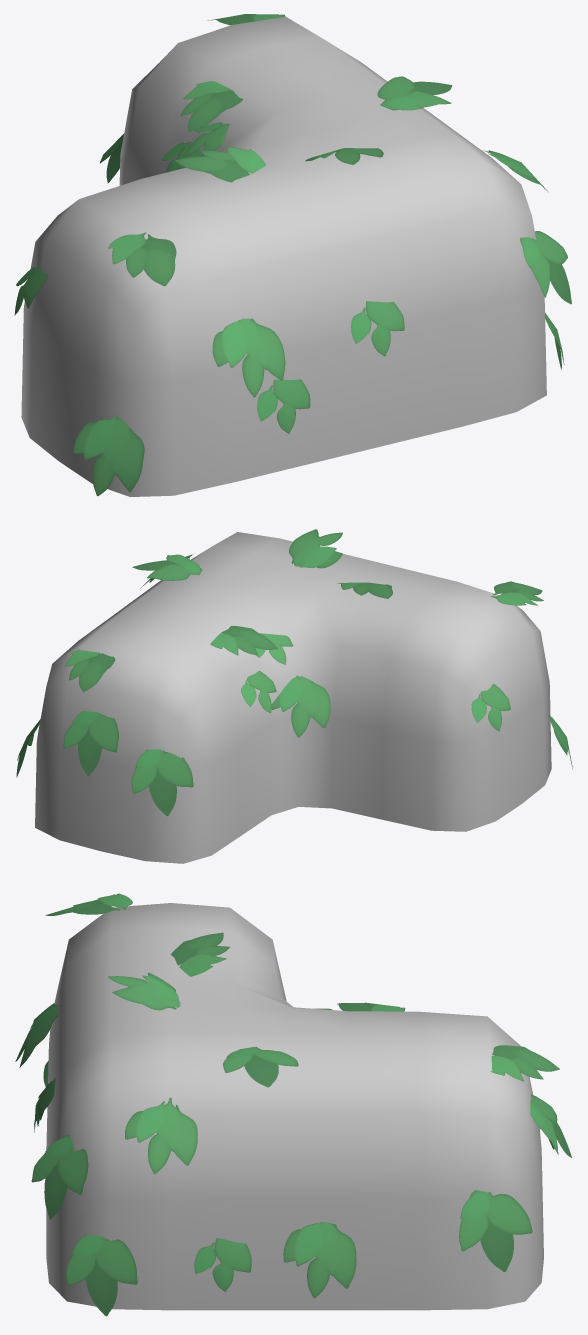
Rendered from Hedge_Corner.fbx.
The picture shows the model from 3 angles, top to bottom: view 1: azimuth 30°, elevation 25°; view 2: azimuth 150°, elevation 25°; view 3: azimuth 270°, elevation 25°; orthographic projection. The views are drawn at different scales.
Visible parts, largest first — view 1: Hedge_Corner, Leaf.061; view 2: Hedge_Corner, Leaf.061; view 3: Hedge_Corner, Leaf.061.
Boxes of the visible parts, x1,y1,x2,y2 form: Hedge_Corner: (21, 16, 546, 496); Leaf.061: (14, 14, 571, 495); Hedge_Corner: (35, 532, 551, 863); Leaf.061: (16, 529, 572, 816); Hedge_Corner: (46, 903, 543, 1310); Leaf.061: (15, 893, 571, 1316).
Size of the model in its own units: 225 by 110 by 225.
